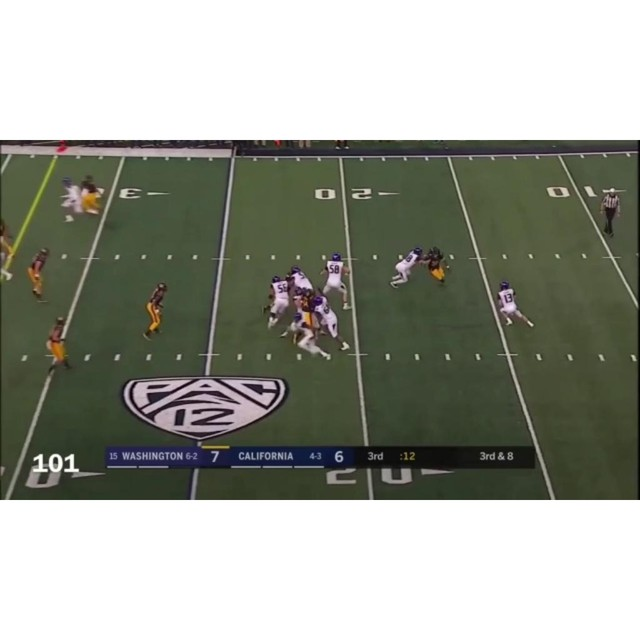american-football-player: (312, 294, 350, 351), (292, 312, 332, 361), (319, 252, 352, 310), (498, 279, 535, 329), (45, 315, 72, 374), (388, 246, 424, 289), (143, 281, 168, 340), (264, 275, 290, 329), (28, 247, 50, 303), (58, 175, 82, 224), (79, 174, 105, 216), (425, 246, 449, 286), (289, 264, 314, 295)
referee: (600, 186, 621, 238)
